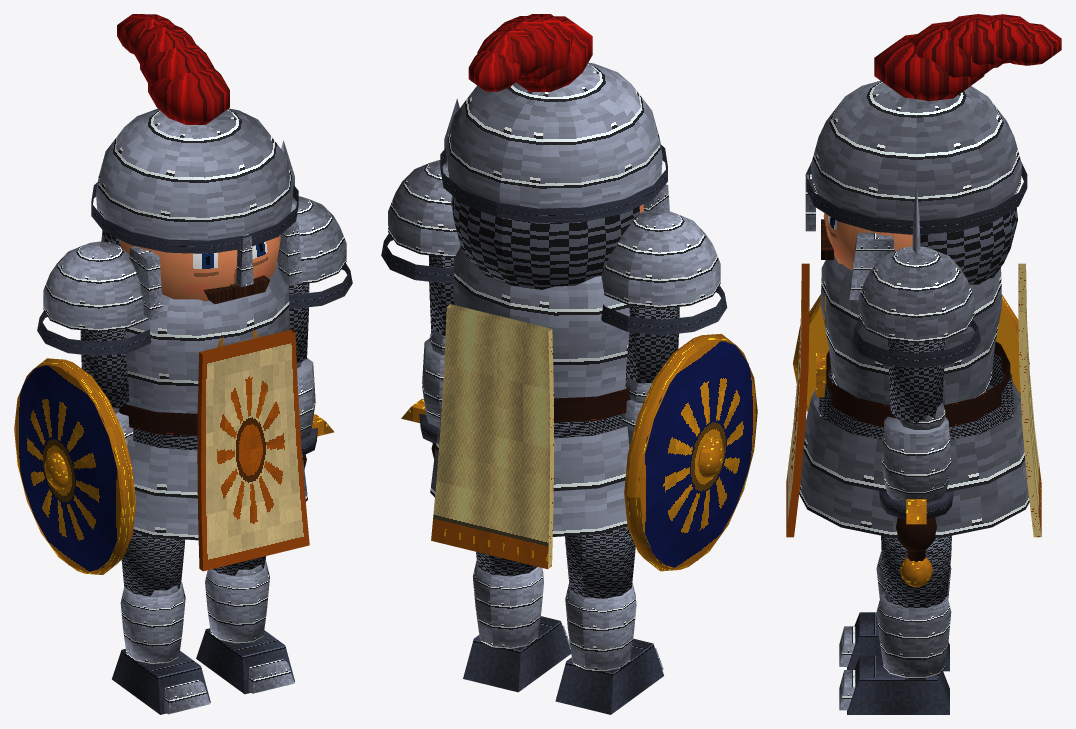
Rendered from ritter.glb.
3 renders of one model, left to right at view 1: azimuth 30°, elevation 25°; view 2: azimuth 150°, elevation 25°; view 3: azimuth 270°, elevation 25°, orthographic. The views are drawn at different scales.
Visible parts, largest first — view 1: tabardF, helm, shield, chest, pauldron-1, tassets, head, greave-1, greave1, shieldRim, plume0, pauldron1 (+21 smaller); view 2: tabardB, helm, shield, chest, coif, pauldron-1, tassets, pauldron1, greave-1, greave1, shieldRim, sabaton-1 (+17 smaller); view 3: helm, tassets, chest, pauldron1, greave1, vamb1, sabaton1, coif, plume0, upper1, thigh1, helmRim (+23 smaller).
Boxes of the visible parts, x1,y1,x2,y2 form: tabardF: (197, 329, 309, 571); helm: (96, 108, 293, 240); shield: (16, 363, 134, 572); chest: (125, 264, 289, 413); pauldron-1: (43, 241, 148, 331); tassets: (127, 439, 307, 540); head: (120, 235, 280, 301); greave-1: (120, 582, 185, 663); greave1: (205, 561, 269, 643); shieldRim: (14, 358, 135, 574); plume0: (148, 68, 229, 124); pauldron1: (276, 196, 346, 285); tabardB: (431, 304, 554, 569); helm: (445, 62, 662, 208); shield: (626, 339, 755, 568); chest: (453, 247, 629, 398); coif: (451, 195, 640, 289); pauldron-1: (601, 209, 720, 308); tassets: (430, 421, 629, 536); pauldron1: (388, 160, 460, 257); greave-1: (565, 582, 636, 672); greave1: (473, 561, 543, 650); shieldRim: (624, 333, 757, 571); sabaton-1: (555, 638, 663, 714); helm: (811, 80, 1021, 220); tassets: (799, 381, 1029, 537); chest: (820, 255, 1001, 405); pauldron1: (858, 246, 974, 342); greave1: (876, 592, 951, 679); vamb1: (881, 416, 951, 502); sabaton1: (847, 655, 949, 714); coif: (920, 208, 1017, 284); plume0: (874, 34, 984, 101); upper1: (888, 339, 944, 422); thigh1: (881, 535, 951, 607); helmRim: (805, 162, 1027, 234).
Bounding box in the file's own units: 1.42 × 2.84 × 1.07.
Materials: 11 (11 with a texture image).
